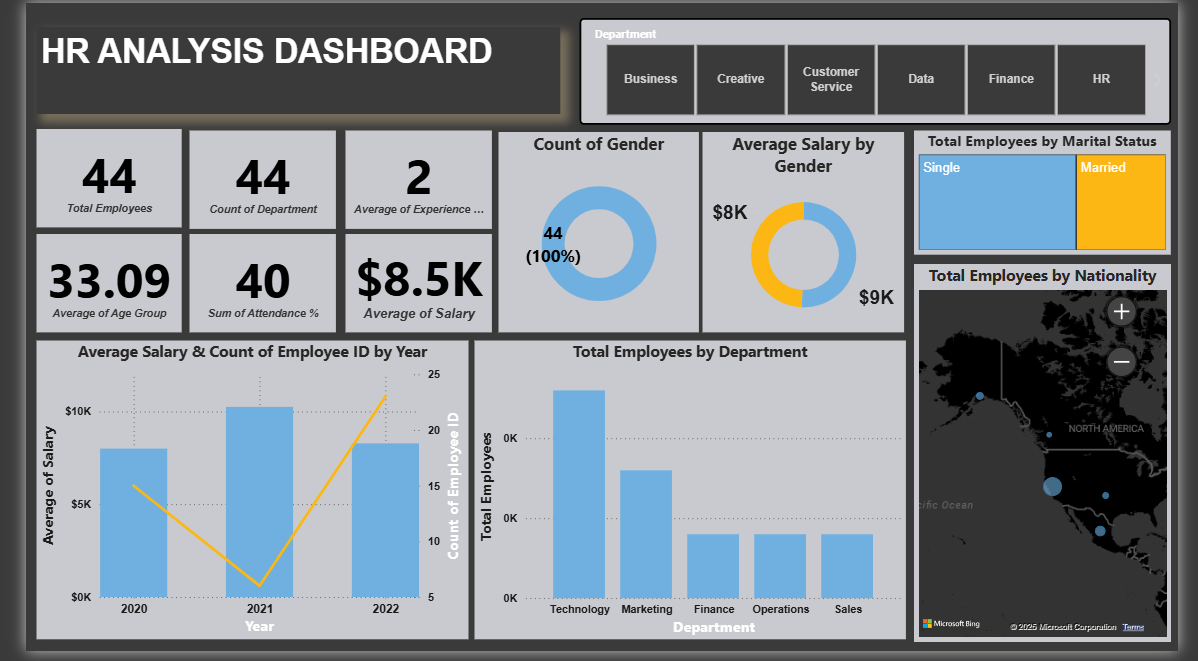

The page's visual inventory and layout, read from the dashboard file:
{"tool":"powerbi","page":{"name":"Page 1","canvas":[1280,720],"ordinal":0},"visuals":[{"type":"card","fields":{"Values":["All_3yrs.Total Employees"]},"box":[11.4,139.9,161,109],"z":0},{"type":"card","fields":{"Values":["Avg(All_3yrs.Salary)"]},"box":[355,257,162.7,109],"z":1000},{"type":"card","fields":{"Values":["Avg(All_3yrs.Experience Years)"]},"box":[355,141.5,162.7,109],"z":2000},{"type":"donutChart","fields":{"Y":["CountNonNull(All_3yrs.Gender)"]},"box":[524.6,143.8,222.8,222.8],"z":3000},{"type":"columnChart","fields":{"Category":["All_3yrs.Department"],"Y":["All_3yrs.Total Employees"]},"box":[498.5,375.5,479.3,332.3],"z":4000},{"type":"treemap","fields":{"Group":["All_3yrs.Marital Status"],"Values":["All_3yrs.Total Employees"]},"box":[986,141.8,285,137.7],"z":5000},{"type":"map","fields":{"Size":["All_3yrs.Total Employees"],"Category":["All_3yrs.Nationality"]},"box":[986.3,289.6,285.6,419.2],"z":6000},{"type":"donutChart","title":"Average Salary by Gender","fields":{"Category":["All_3yrs.Gender"],"Y":["Avg(All_3yrs.Salary)"]},"box":[751.4,144,224,222.8],"z":7000},{"type":"card","fields":{"Values":["CountNonNull(All_3yrs.Department)"]},"box":[182,141.5,162.7,109],"z":8000},{"type":"lineClusteredColumnComboChart","title":"Average Salary & Count of Employee ID by Year","fields":{"Category":["All_3yrs.Date of Join.Variation.Date Hierarchy.Year","All_3yrs.Date of Join.Variation.Date Hierarchy.Month"],"Y":["Avg(All_3yrs.Salary)"],"Y2":["CountNonNull(All_3yrs.Employee ID)"]},"box":[11.4,375.7,480,332],"z":9000},{"type":"card","fields":{"Values":["Avg(All_3yrs.Age Group)"]},"box":[11.4,257,161,109],"z":10000},{"type":"slicer","fields":{"Values":["All_3yrs.Department"]},"box":[614.8,16.3,657.1,118.7],"z":11000},{"type":"card","fields":{"Values":["Sum(EMP Attendance.Percentage of Attendance)"]},"box":[182,257,162.7,109],"z":12000},{"type":"textbox","box":[11.7,26.7,581.7,96.7],"z":13000}]}

Visuals, with their boxes in screenshot pixels (x1, y1, x2, y2), scaled from the page's 1280x720 canvas onto the 1198x661 screenshot:
card - All_3yrs.Total Employees: box(11, 128, 161, 229)
card - Avg(All_3yrs.Salary): box(332, 236, 485, 336)
card - Avg(All_3yrs.Experience Years): box(332, 130, 485, 230)
donutChart - CountNonNull(All_3yrs.Gender): box(491, 132, 700, 337)
columnChart - All_3yrs.Department x All_3yrs.Total Employees: box(467, 345, 915, 650)
treemap - All_3yrs.Marital Status x All_3yrs.Total Employees: box(923, 130, 1190, 257)
map - All_3yrs.Total Employees x All_3yrs.Nationality: box(923, 266, 1190, 651)
"Average Salary by Gender" donutChart: box(703, 132, 913, 337)
card - CountNonNull(All_3yrs.Department): box(170, 130, 323, 230)
"Average Salary & Count of Employee ID by Year" lineClusteredColumnComboChart: box(11, 345, 460, 650)
card - Avg(All_3yrs.Age Group): box(11, 236, 161, 336)
slicer - All_3yrs.Department: box(575, 15, 1190, 124)
card - Sum(EMP Attendance.Percentage of Attendance): box(170, 236, 323, 336)
textbox: box(11, 25, 555, 113)
